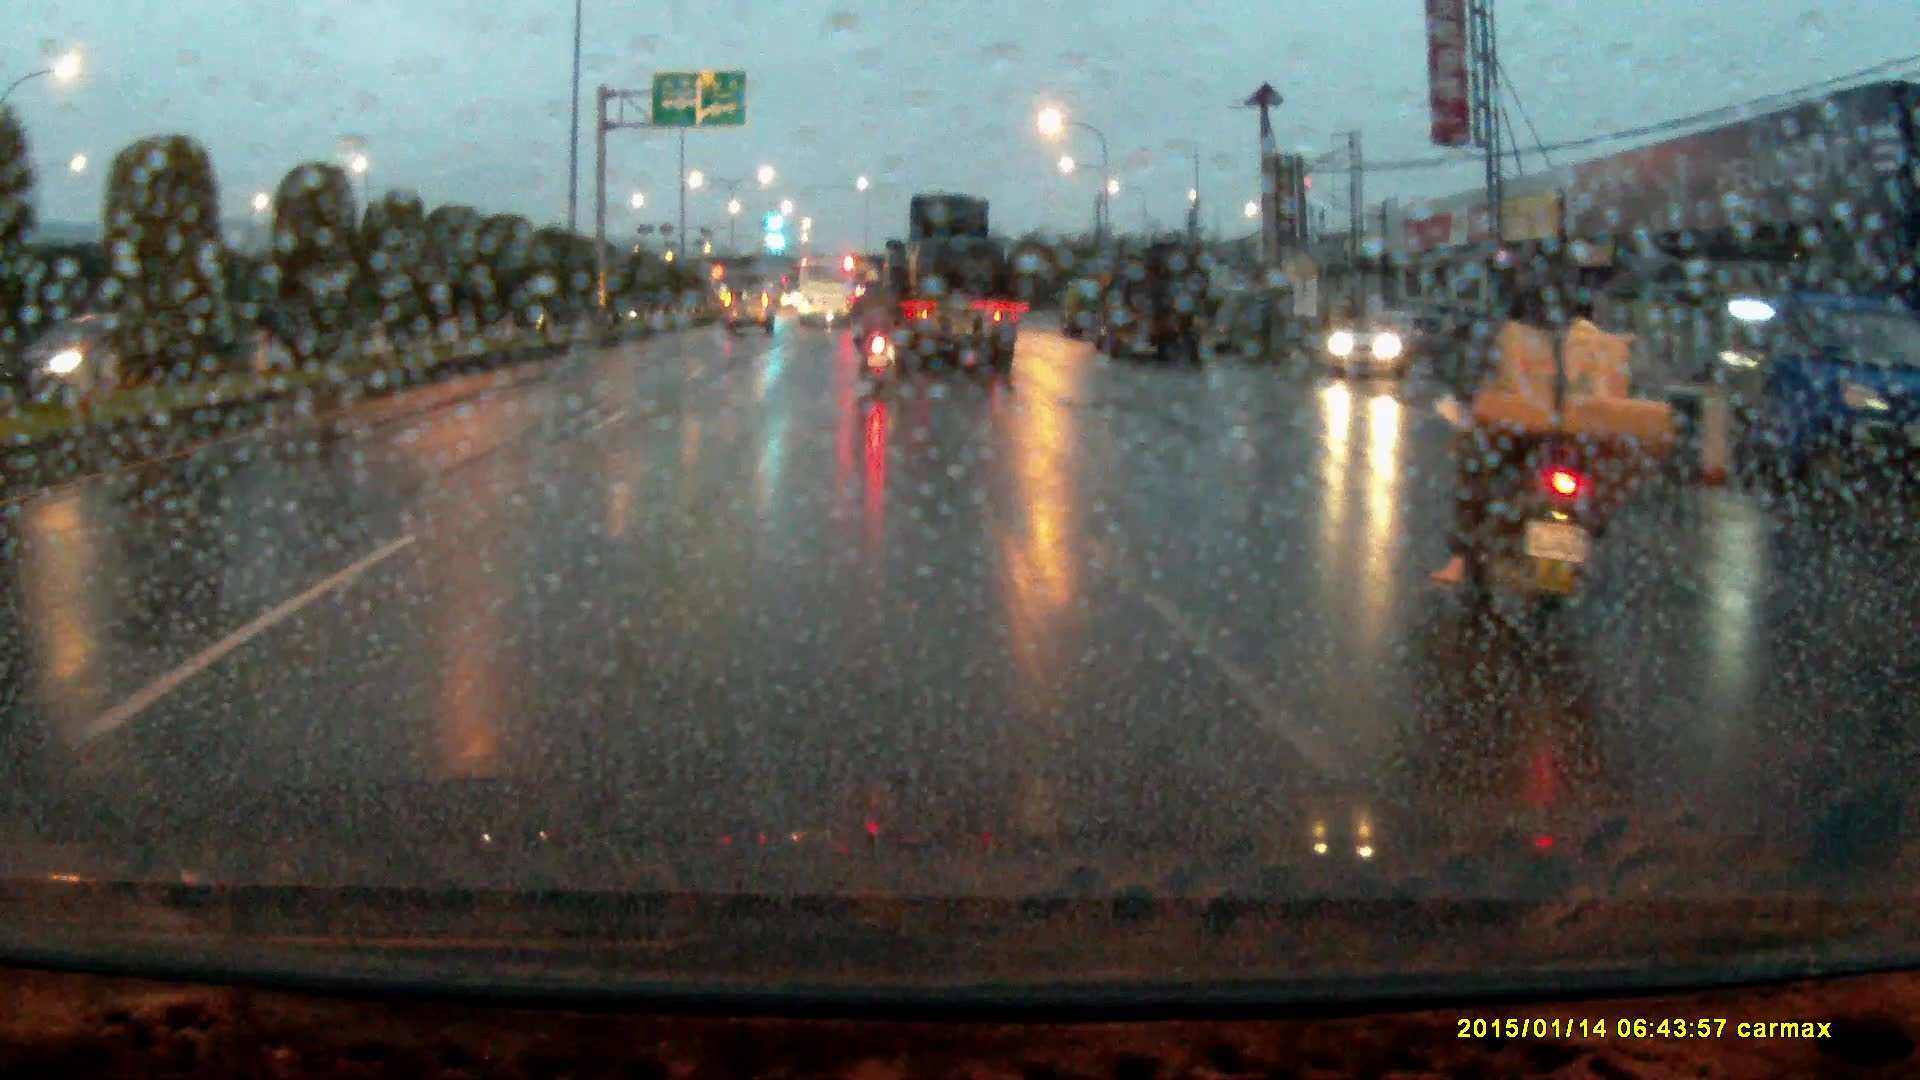rider: (1431, 250, 1690, 667), (850, 266, 905, 386)
vehicle: (1629, 293, 1920, 485), (873, 196, 1012, 373), (1100, 246, 1221, 368), (1323, 311, 1437, 381), (797, 258, 857, 330), (1058, 279, 1112, 340), (724, 284, 777, 336)
